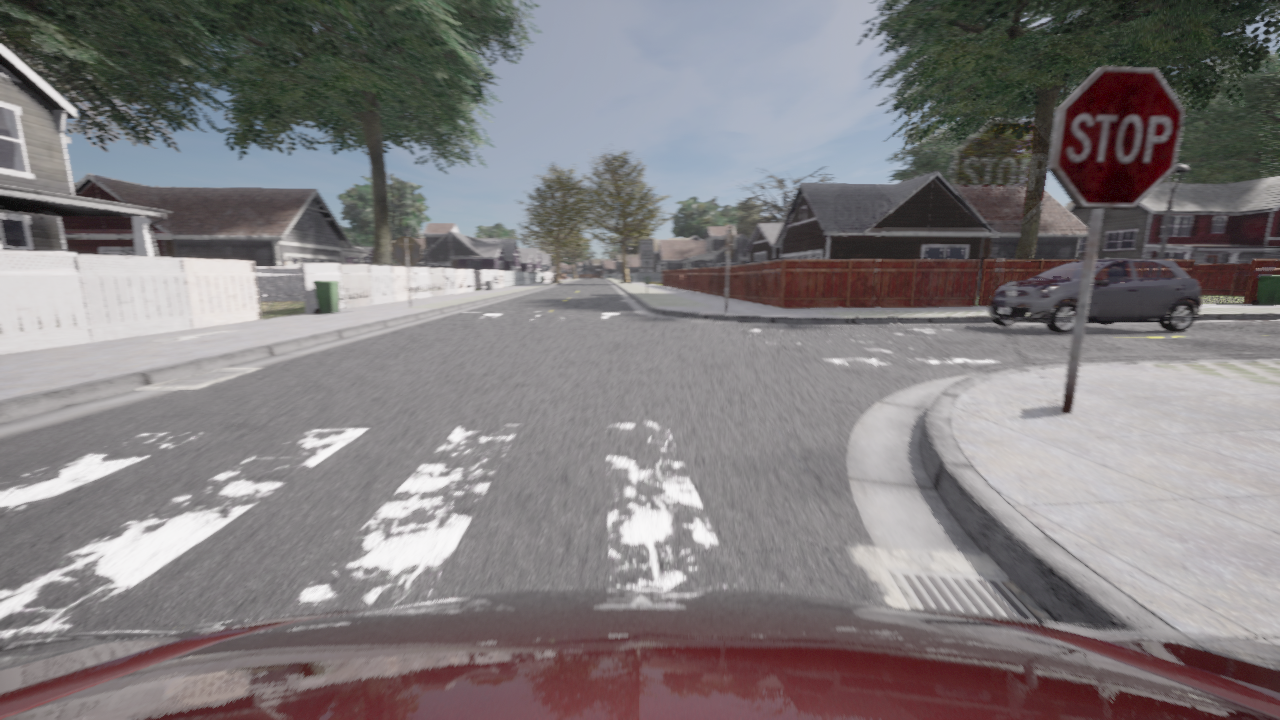cyclist: (0, 588, 1279, 719), (988, 258, 1200, 332)
